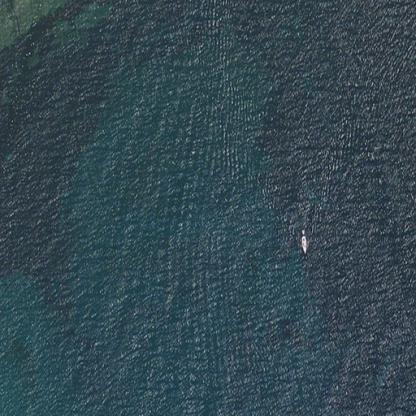ship: (299, 231, 307, 252)
